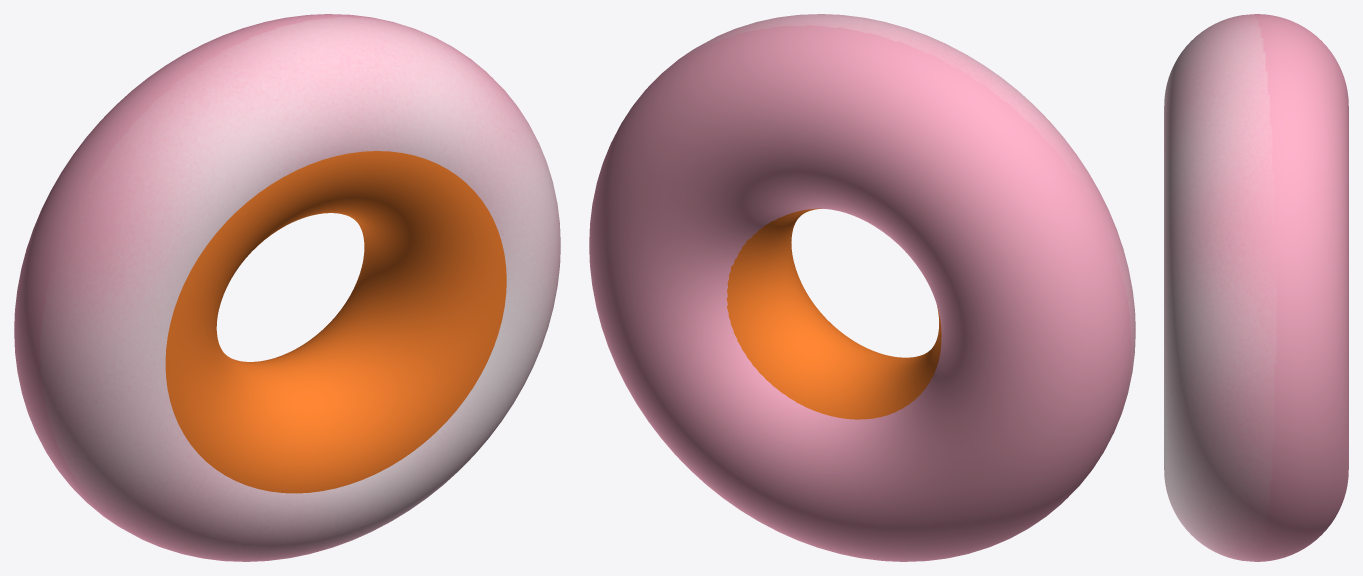
File: donut.glb
3 views of the same model, side by side, from view 1: azimuth 30°, elevation 25°; view 2: azimuth 150°, elevation 25°; view 3: azimuth 270°, elevation 25° (orthographic). The views are drawn at different scales.
Visible parts, largest first — view 1: mesh_id27, mesh_id38; view 2: mesh_id27, mesh_id38; view 3: mesh_id27.
Boxes of the visible parts, x1,y1,x2,y2 form: mesh_id27: (14,14,560,561); mesh_id38: (165,151,506,493); mesh_id27: (589,14,1135,561); mesh_id38: (726,208,941,419); mesh_id27: (1164,14,1348,561).
Bounding box in the file's own units: 0.1834 × 0.1748 × 0.0594.
2 materials, 2 textured.
